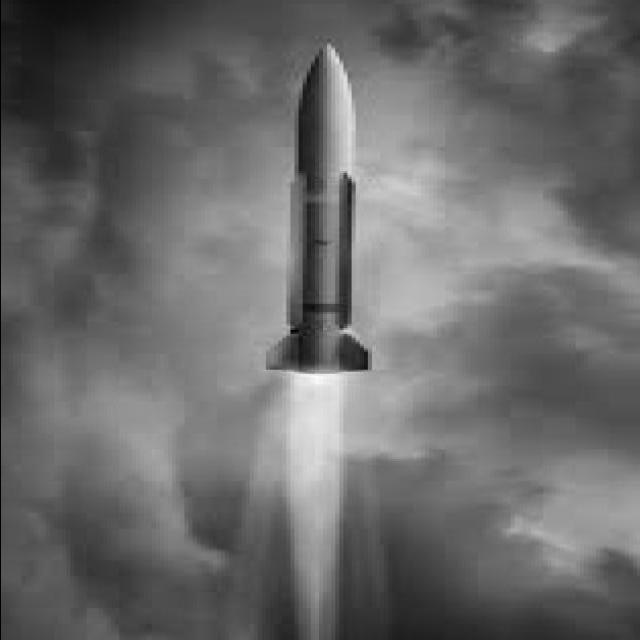Missile: (253, 37, 393, 377)
